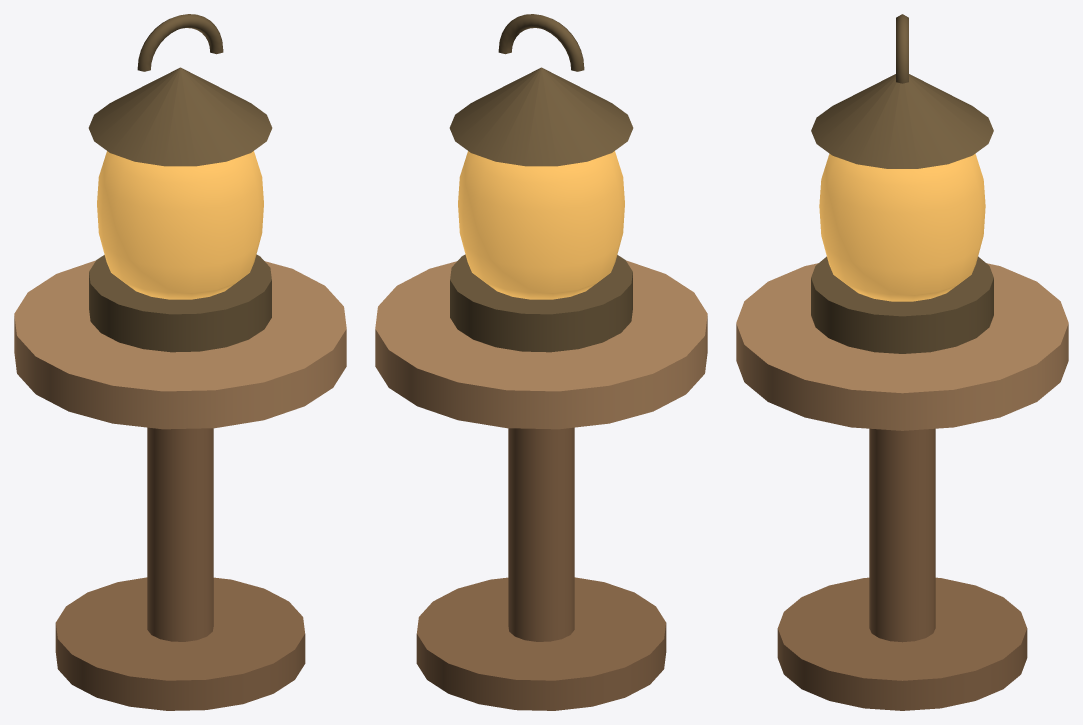
File: lamp-hurricane.glb
3 renders of one model, left to right at view 1: azimuth 30°, elevation 25°; view 2: azimuth 150°, elevation 25°; view 3: azimuth 270°, elevation 25°, orthographic.
Parts seen in each view (by area): view 1: lamp-hurricane_m_8f6a48, lamp-hurricane_m_b98d62, lamp-hurricane_m_6f5a3a, lamp-hurricane_glow_ffc260; view 2: lamp-hurricane_m_8f6a48, lamp-hurricane_m_b98d62, lamp-hurricane_m_6f5a3a, lamp-hurricane_glow_ffc260; view 3: lamp-hurricane_m_8f6a48, lamp-hurricane_m_b98d62, lamp-hurricane_m_6f5a3a, lamp-hurricane_glow_ffc260.
Boxes of the visible parts, x1,y1,x2,y2 form: lamp-hurricane_m_8f6a48: (55, 427, 305, 710); lamp-hurricane_m_b98d62: (14, 260, 346, 429); lamp-hurricane_m_6f5a3a: (88, 14, 272, 352); lamp-hurricane_glow_ffc260: (97, 151, 263, 299); lamp-hurricane_m_8f6a48: (416, 427, 666, 710); lamp-hurricane_m_b98d62: (375, 260, 707, 429); lamp-hurricane_m_6f5a3a: (449, 14, 633, 352); lamp-hurricane_glow_ffc260: (458, 151, 624, 299); lamp-hurricane_m_8f6a48: (777, 428, 1027, 710); lamp-hurricane_m_b98d62: (736, 263, 1068, 430); lamp-hurricane_m_6f5a3a: (811, 14, 993, 353); lamp-hurricane_glow_ffc260: (819, 153, 985, 301).
Bounding box in the file's own units: 0.4 × 0.849 × 0.4.
